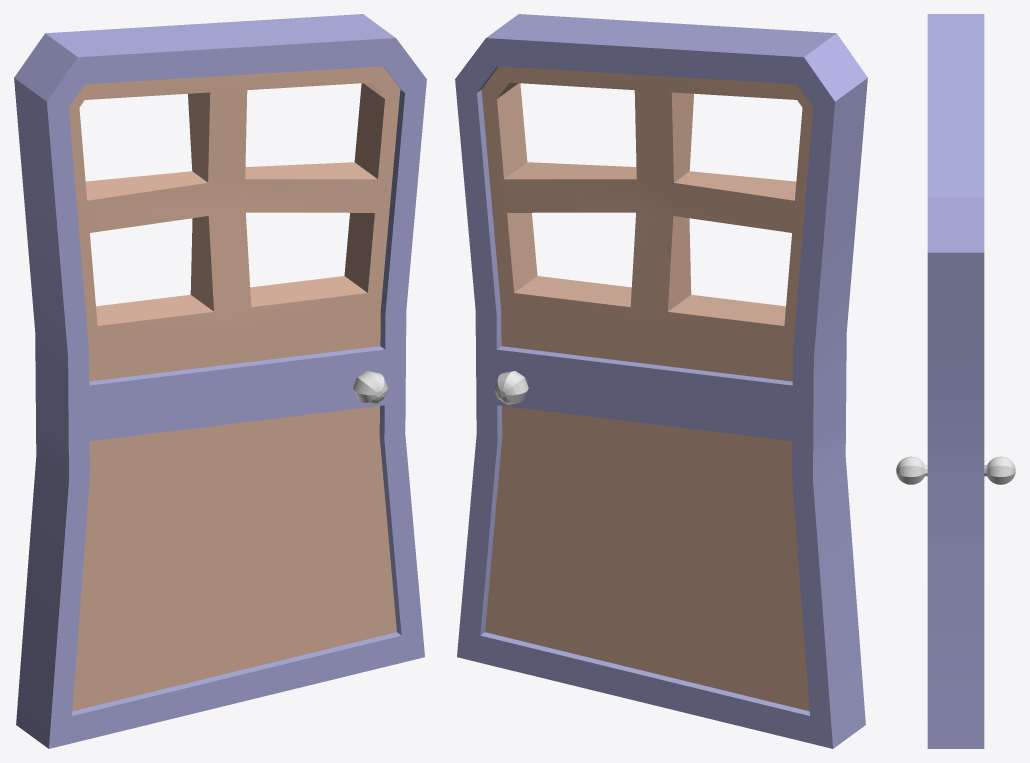
The model's file is door.fbx.
The picture shows the model from 3 angles, left to right: view 1: azimuth 30°, elevation 25°; view 2: azimuth 150°, elevation 25°; view 3: azimuth 270°, elevation 25°; orthographic projection. The views are drawn at different scales.
Parts seen in each view (by area): view 1: Cube.022; view 2: Cube.022; view 3: Cube.022.
Part boxes in pixels (x1=…): Cube.022: x1=14, y1=14, x2=426, y2=748; Cube.022: x1=455, y1=14, x2=867, y2=748; Cube.022: x1=896, y1=14, x2=1015, y2=748.
Bounding box in the file's own units: 255 × 439 × 80.5.
